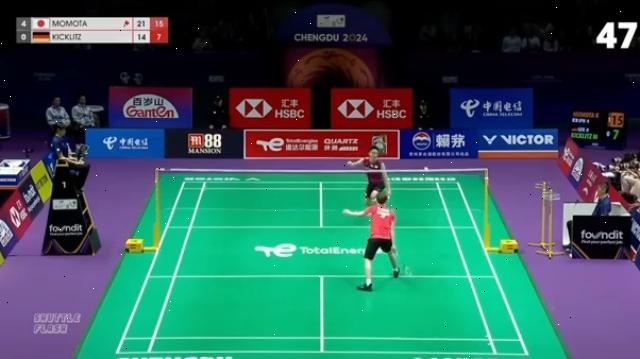Shuttlecock: (423, 164, 431, 172)
